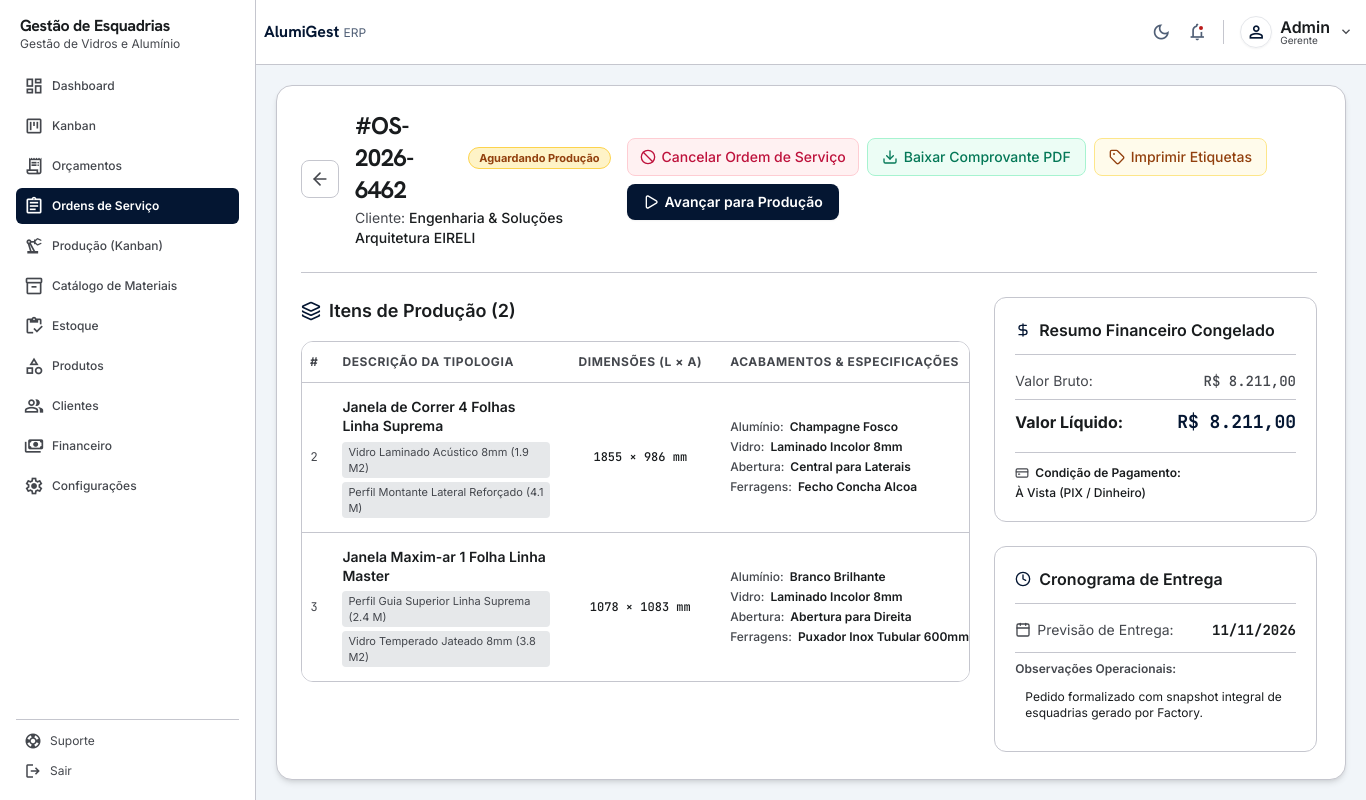
US-14.2 / #431: Testes E2E — Imutabilidade Cadastral e Estrutural das Esquadrias do Pedido › Cenário 3: Validar que a única ação de alteração contratual disponível é o Cancelamento
The image size is (1366, 800).
Expected: the element with test id "btn-cancel-order" is enabled
Click the button with test id "btn-cancel-order" at [743, 157], box [627,138,859,176]
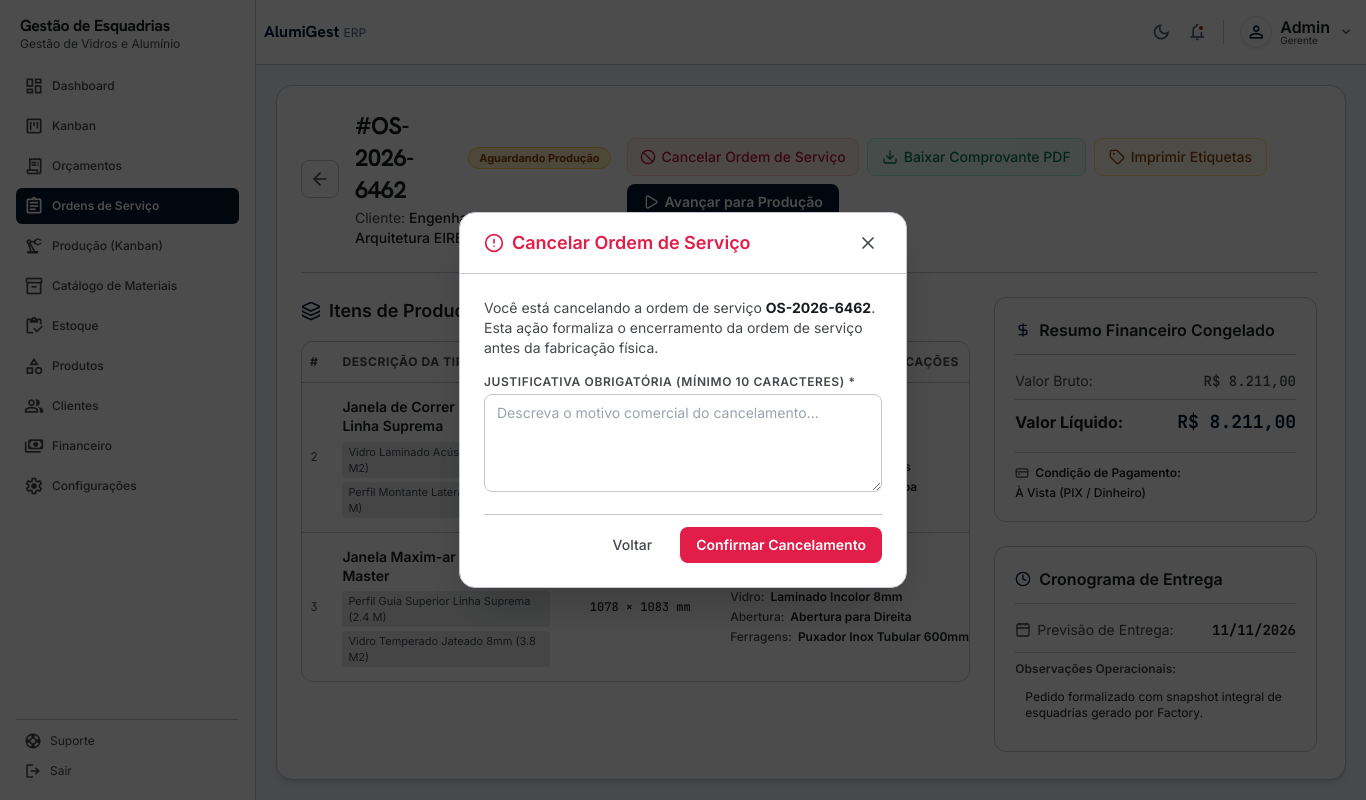
Expected: the element with test id "cancel-order-modal" is shown
Type "Curta" into the text box with id "justificativa" at [683, 443], box [484,394,882,492]
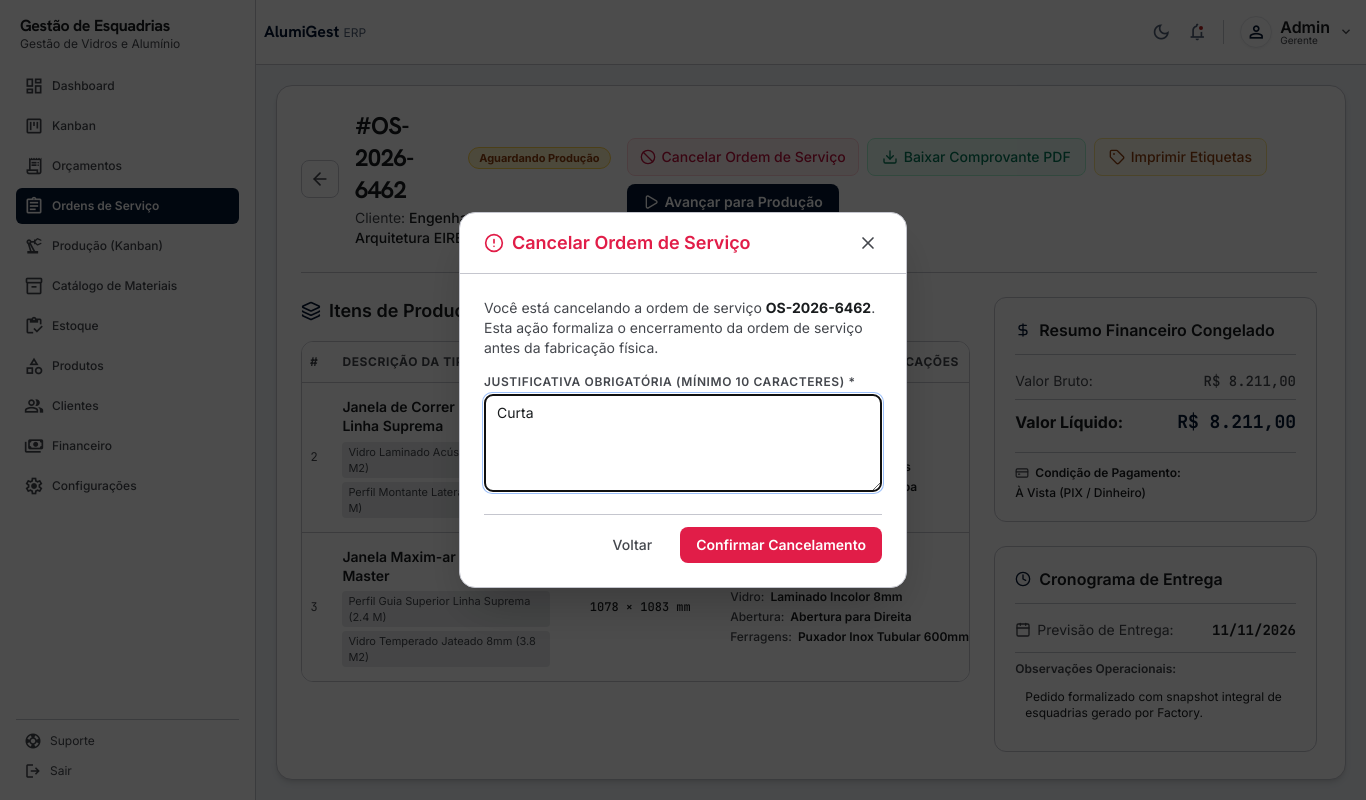
Click the submit button at [781, 545], box [680,527,882,563]
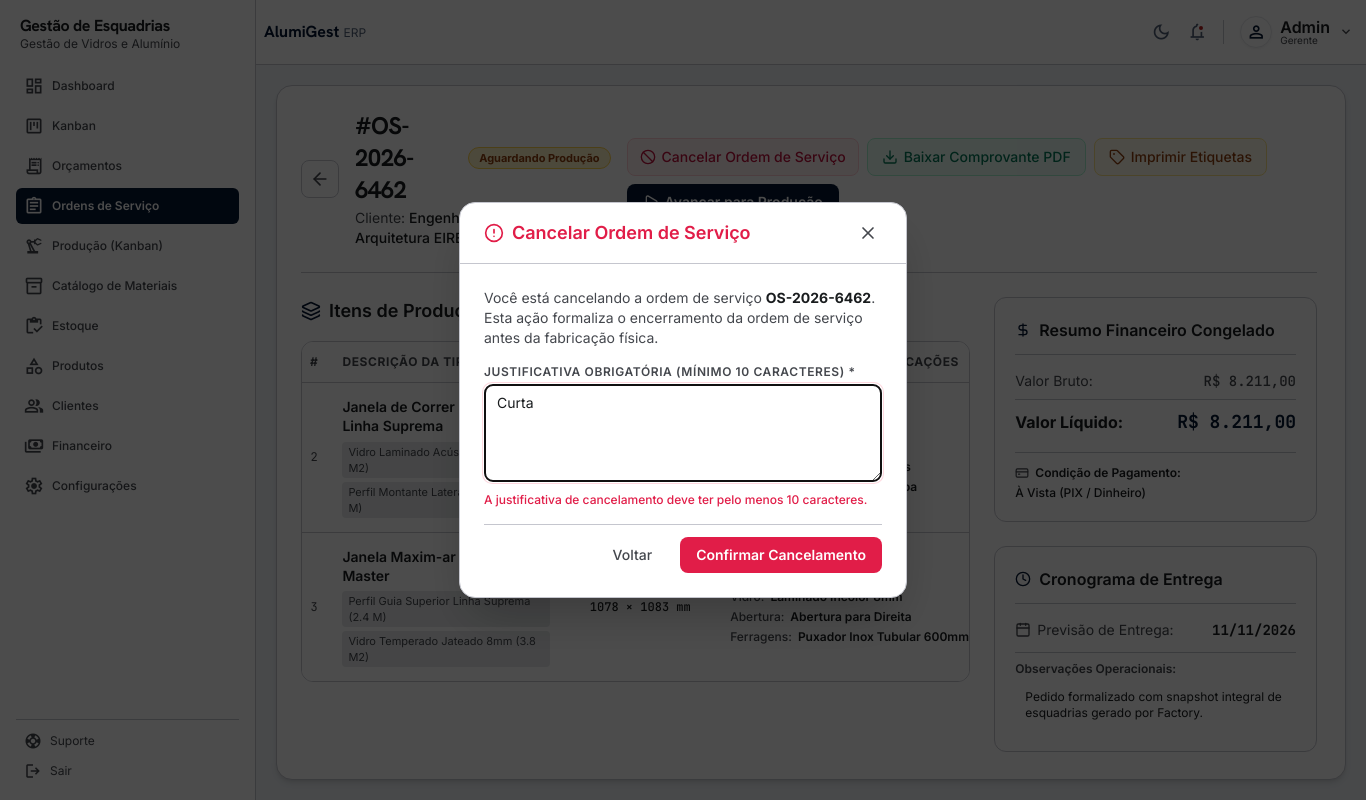
Replace the text in the text box with id "justificativa" with "Cliente solicitou alteração no modelo da esquadria e nova negociação comercial." at [683, 433], box [484,384,882,482]
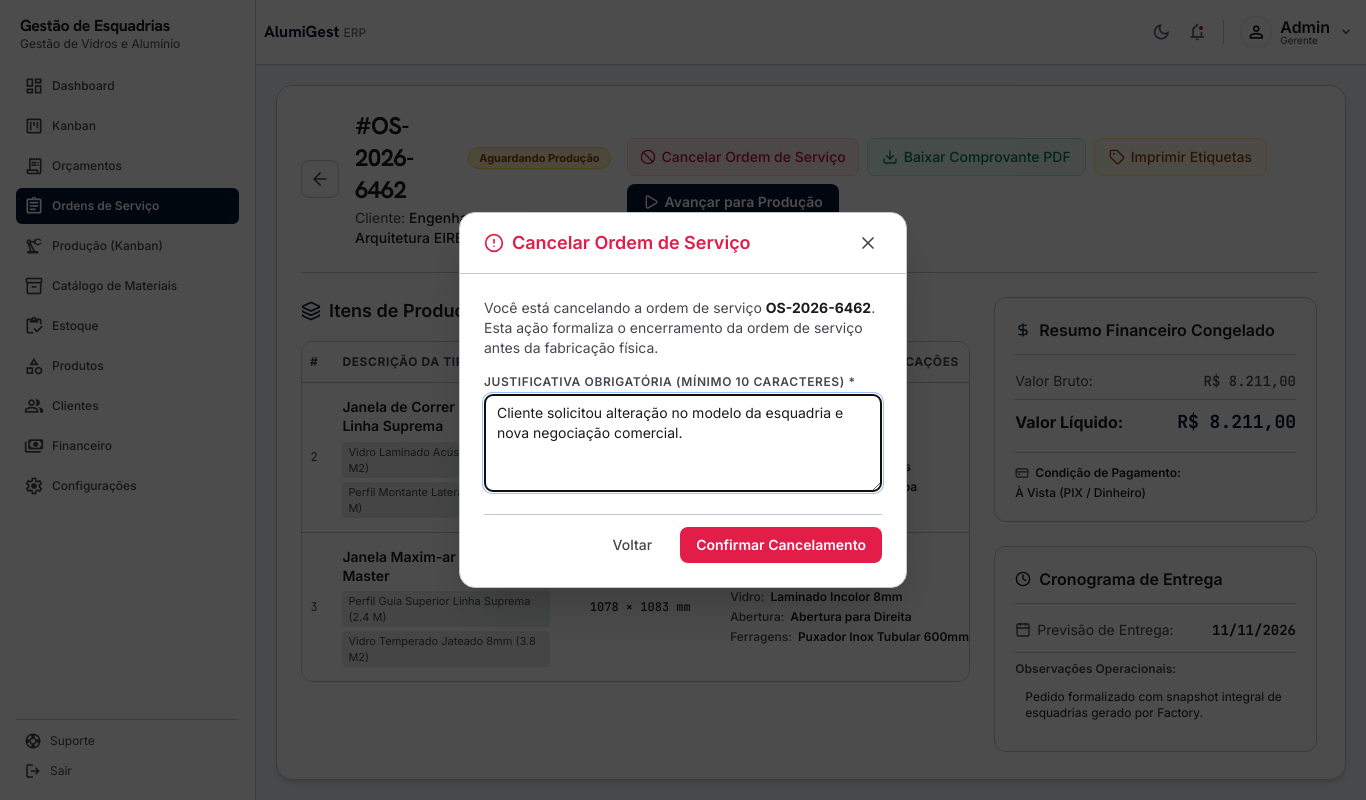
Click the submit button at [781, 545], box [680,527,882,563]
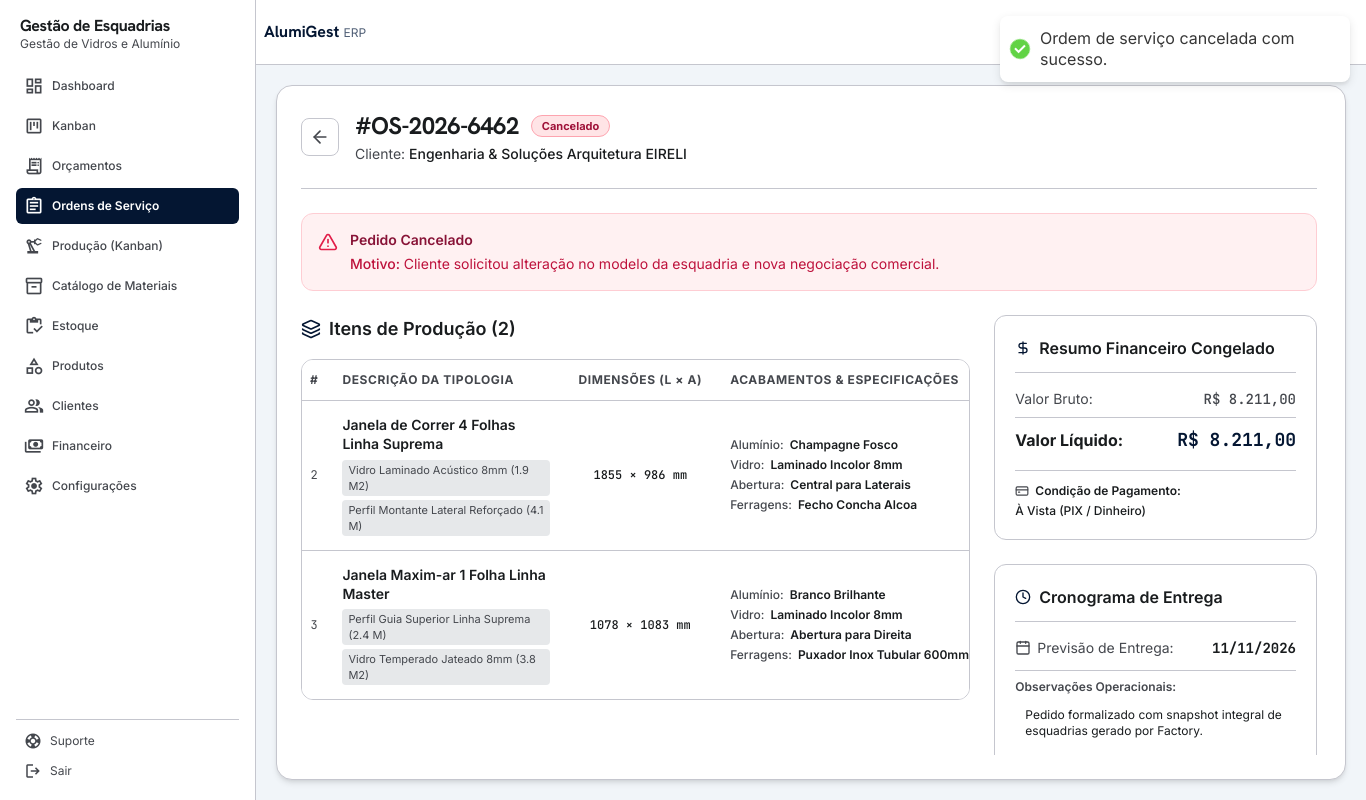
Expected: the element with test id "cancel-order-modal" is gone
Expected: the text "Ordem de serviço cancelada com sucesso." is shown, [1040,28,1330,70]
Expected: the element with test id "order-cancelled-alert" shows "Cliente solicitou alteração no modelo da esquadria e nova negociação comercial.", [301,213,1317,291]
